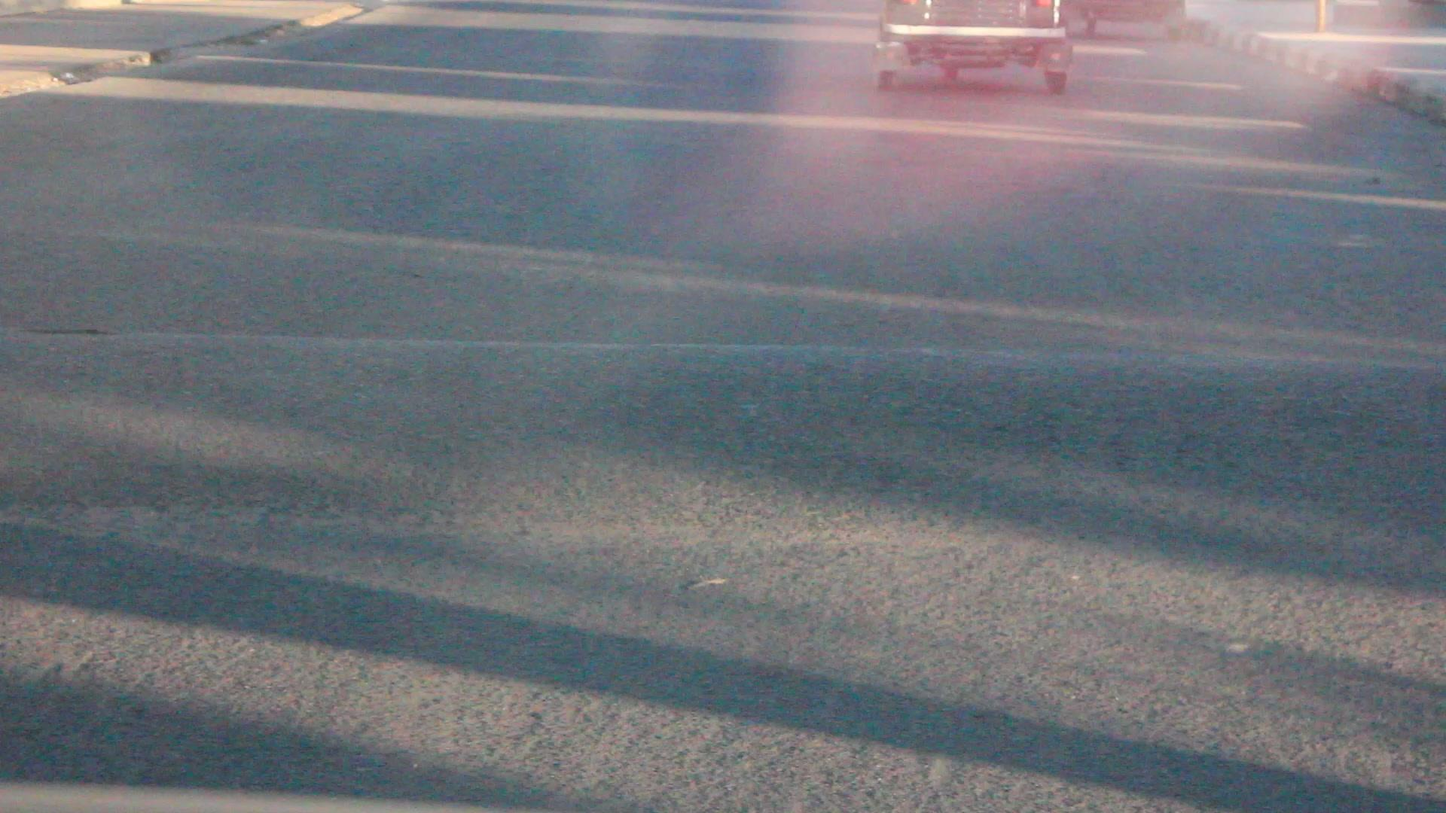Bump: (24, 359, 1446, 510)
